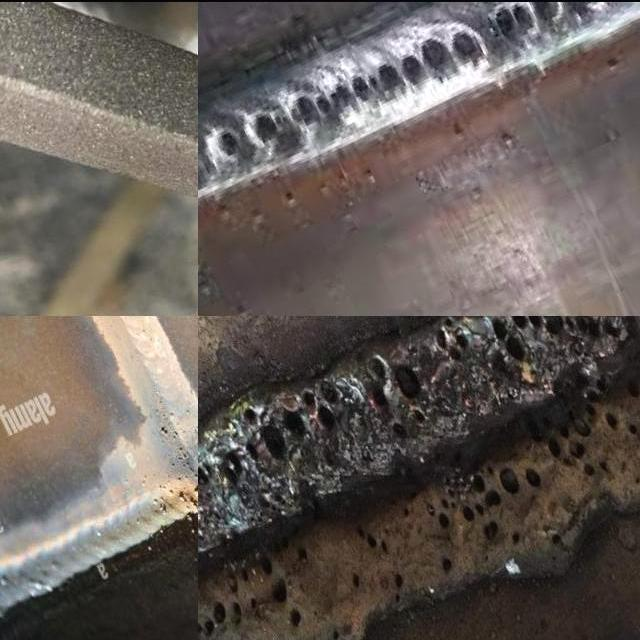defect: (280, 22, 494, 130), (198, 371, 344, 486), (521, 371, 640, 478), (426, 459, 546, 544), (485, 314, 627, 371), (363, 343, 439, 439), (480, 0, 606, 44), (254, 541, 308, 634), (198, 565, 262, 638), (426, 314, 473, 363), (244, 107, 284, 161), (206, 120, 242, 167), (150, 480, 198, 515), (349, 522, 396, 557), (541, 518, 571, 556), (170, 444, 198, 480), (388, 571, 409, 607), (346, 563, 367, 597), (293, 541, 313, 566), (438, 552, 457, 578), (328, 622, 346, 640), (157, 425, 169, 441), (166, 410, 176, 421), (171, 429, 178, 440)
